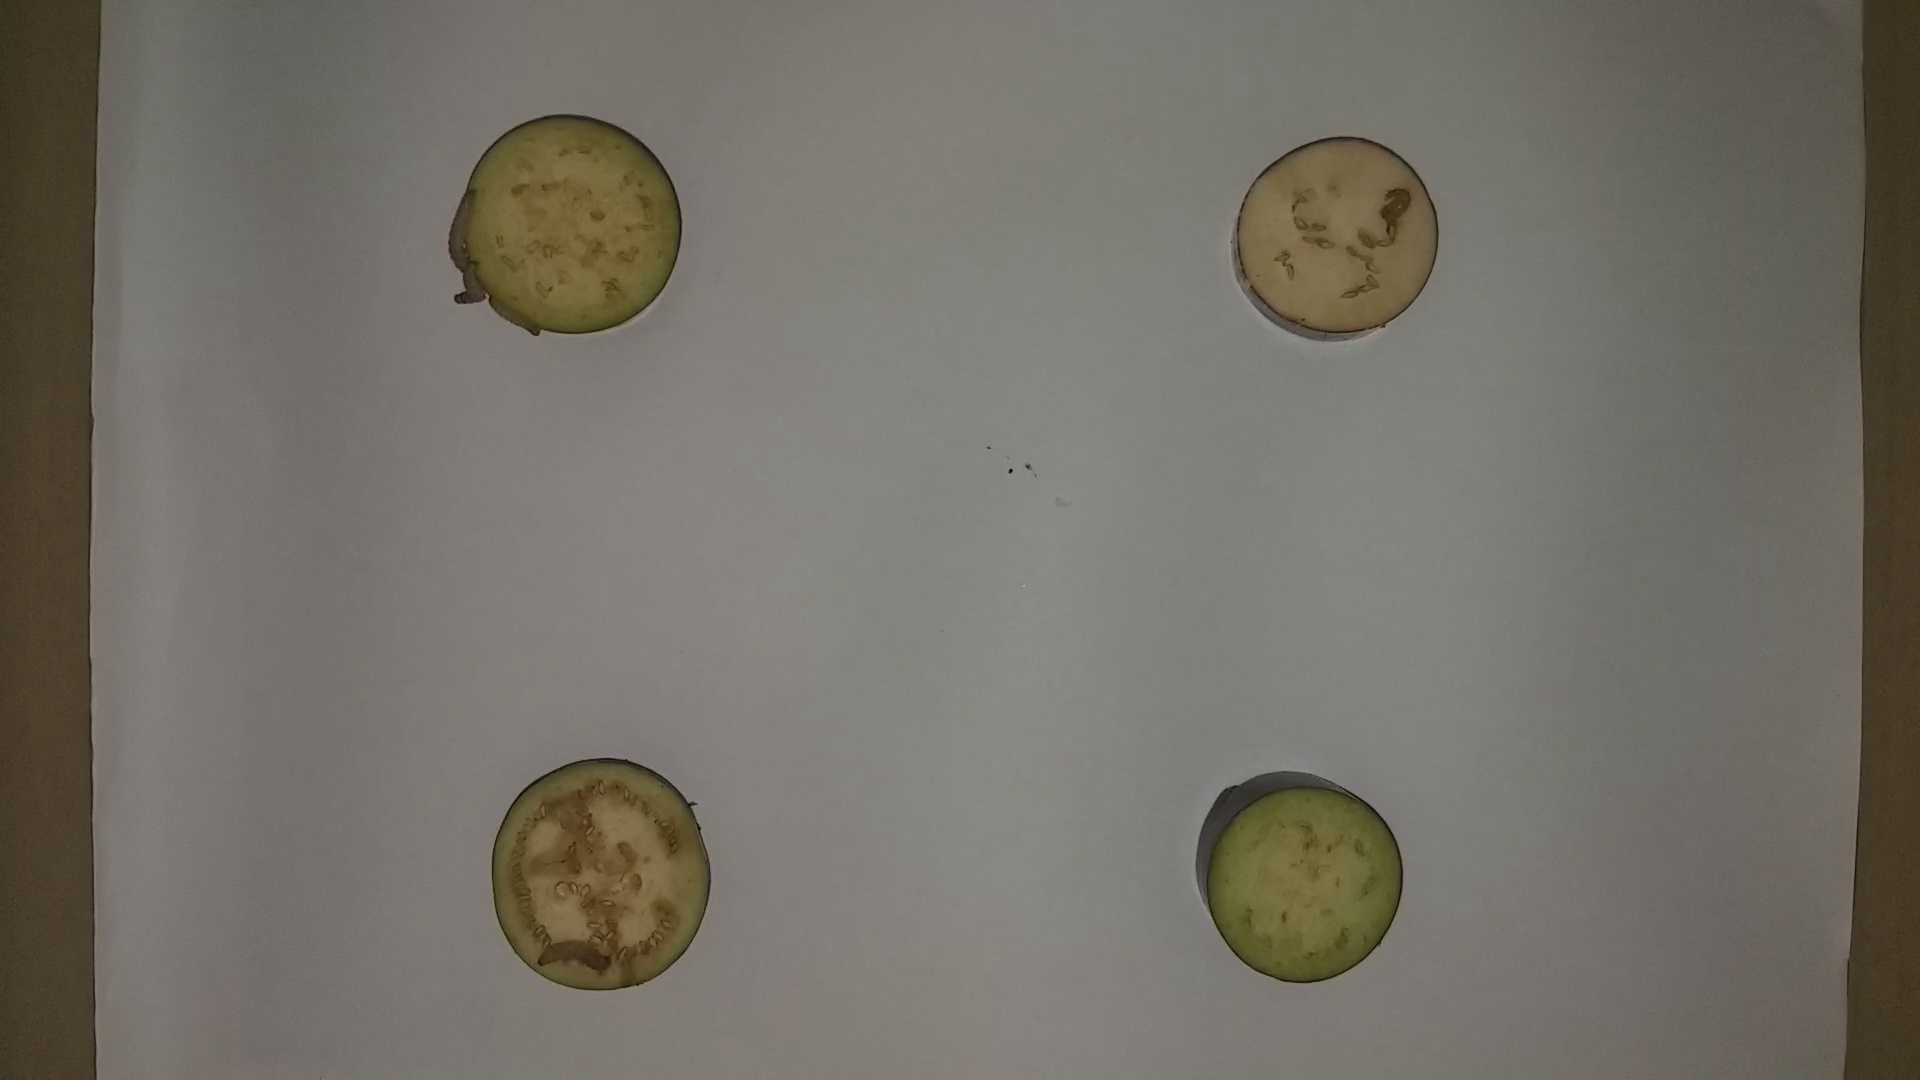efsb: (534, 935, 618, 977), (483, 291, 549, 339), (444, 185, 479, 276), (1371, 182, 1418, 229), (454, 262, 491, 314)
eggplant: (456, 102, 692, 349), (488, 752, 716, 996), (1217, 121, 1453, 351), (1187, 761, 1408, 996)
